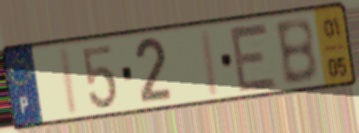2: (136, 34, 177, 108)
5: (79, 42, 120, 111)
B: (272, 15, 321, 88)
E: (226, 21, 281, 94)
I: (197, 26, 223, 100), (57, 45, 82, 118)
